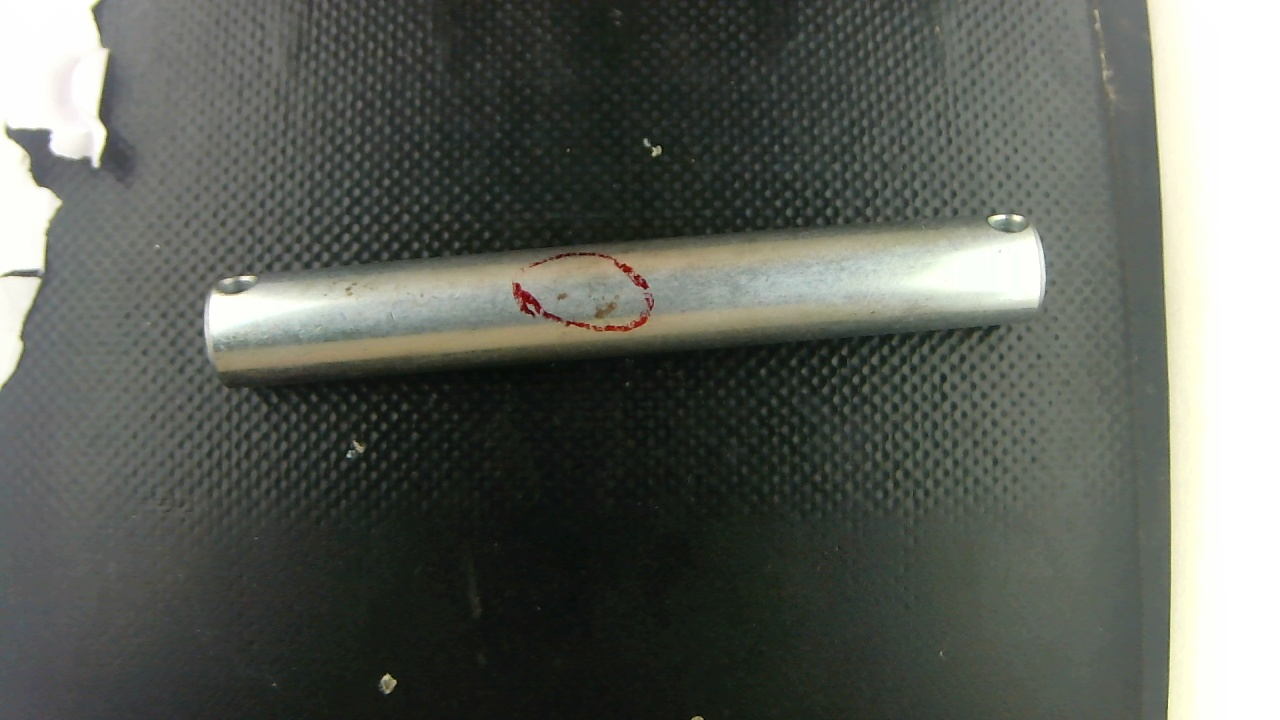rust_pin: (586, 286, 633, 328)
